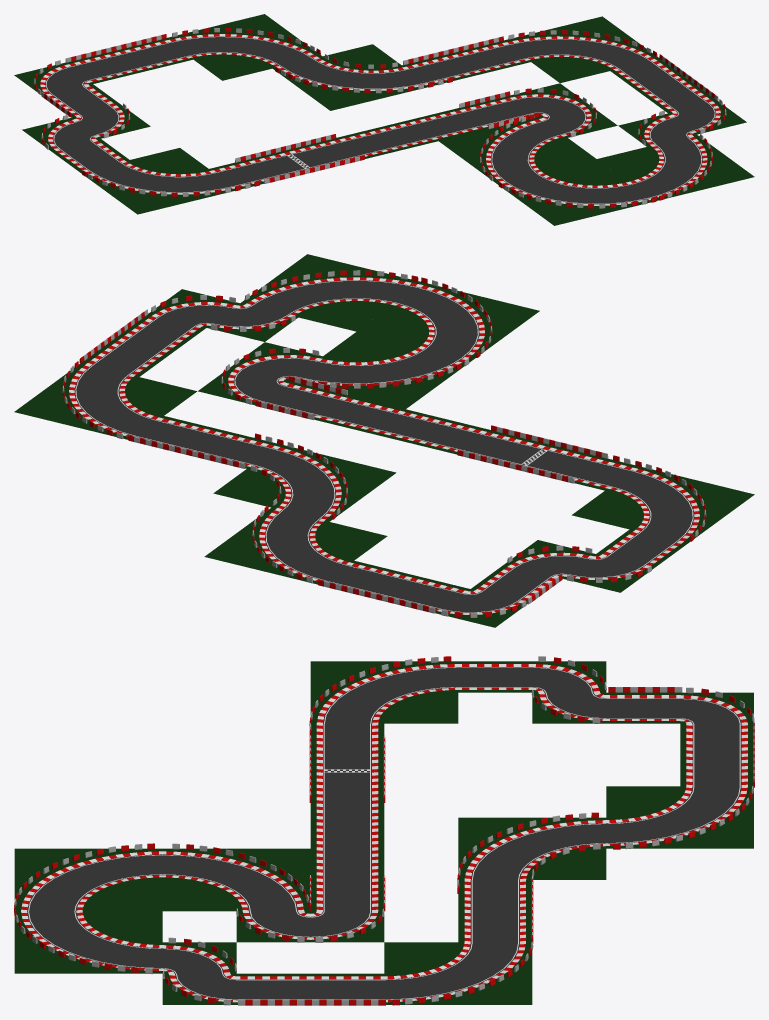
Rendered from CircuitCource.fbx.
The picture shows the model from 3 angles, top to bottom: view 1: azimuth 30°, elevation 25°; view 2: azimuth 150°, elevation 25°; view 3: azimuth 270°, elevation 25°; orthographic projection. The views are drawn at different scales.
Parts seen in each view (by area): view 1: Track_Corner_90d_type_01_30x30m_quad_free_obs__6_, Track_Corner_90d_type_01_30x30m_quad_free_obs__4_, Track_Corner_90d_type_01_30x30m_quad_free_obs__3_, Track_Corner_90d_type_01_30x30m_quad_free_obs__2_, Track_Corner_90d_type_01_30x30m_quad_free_obs, Track_Corner_90d_type_01_30x30m_quad_free_obs__5_, Track_Corner_90d_type_01_30x30m_quad_free_obs__1_, Track_line_type_01_30m_free_obs__2_, Track_line_type_01_30m_free_obs, Track_line_type_01_30m_free_obs__1_, Track_line_type_01_30m_free_obs__3_, Track_line_type_01_30m_free_obs__4_ (+11 smaller); view 2: Track_Corner_90d_type_01_30x30m_quad_free_obs__5_, Track_Corner_90d_type_01_30x30m_quad_free_obs, Track_Corner_90d_type_01_30x30m_quad_free_obs__2_, Track_Corner_90d_type_01_30x30m_quad_free_obs__3_, Track_Corner_90d_type_01_30x30m_quad_free_obs__4_, Track_Corner_90d_type_01_30x30m_quad_free_obs__1_, Track_Corner_90d_type_01_30x30m_quad_free_obs__6_, Track_line_type_01_30m_free_obs__2_, Track_line_type_01_30m_free_obs__3_, Track_line_type_01_30m_free_obs__4_, Track_line_type_01_30m_free_obs__1_, Track_line_type_01_30m_free_obs (+11 smaller); view 3: Track_Corner_90d_type_01_30x30m_quad_free_obs__5_, Track_Corner_90d_type_01_30x30m_quad_free_obs__6_, Track_Corner_90d_type_01_30x30m_quad_free_obs, Track_Corner_90d_type_01_30x30m_quad_free_obs__4_, Track_Corner_90d_type_01_30x30m_quad_free_obs__3_, Track_Corner_90d_type_01_30x30m_quad_free_obs__1_, Track_Corner_90d_type_01_30x30m_quad_free_obs__2_, Track_line_type_01_30m_free_obs__3_, Track_line_type_01_30m_free_obs__4_, Track_line_type_01_30m_free_obs__1_, Track_line_type_01_30m_free_obs, Track_line_type_01_30m_free_obs__2_ (+11 smaller).
Boxes of the visible parts, box(x1,y1,x2,y2) form: Track_Corner_90d_type_01_30x30m_quad_free_obs__6_: box(439, 117, 596, 183); Track_Corner_90d_type_01_30x30m_quad_free_obs__4_: box(597, 134, 754, 200); Track_Corner_90d_type_01_30x30m_quad_free_obs__3_: box(503, 16, 659, 83); Track_Corner_90d_type_01_30x30m_quad_free_obs__2_: box(165, 14, 322, 80); Track_Corner_90d_type_01_30x30m_quad_free_obs: box(80, 148, 234, 214); Track_Corner_90d_type_01_30x30m_quad_free_obs__5_: box(496, 159, 650, 225); Track_Corner_90d_type_01_30x30m_quad_free_obs__1_: box(273, 44, 427, 110); Track_line_type_01_30m_free_obs__2_: box(610, 59, 717, 113); Track_line_type_01_30m_free_obs: box(64, 39, 192, 83); Track_line_type_01_30m_free_obs__1_: box(402, 41, 530, 85); Track_line_type_01_30m_free_obs__3_: box(310, 120, 437, 162); Track_line_type_01_30m_free_obs__4_: box(410, 96, 533, 140); Track_Corner_90d_type_01_30x30m_quad_free_obs__5_: box(357, 283, 539, 359); Track_Corner_90d_type_01_30x30m_quad_free_obs: box(572, 466, 754, 543); Track_Corner_90d_type_01_30x30m_quad_free_obs__2_: box(204, 507, 387, 584); Track_Corner_90d_type_01_30x30m_quad_free_obs__3_: box(14, 363, 196, 439); Track_Corner_90d_type_01_30x30m_quad_free_obs__4_: box(240, 254, 422, 331); Track_Corner_90d_type_01_30x30m_quad_free_obs__1_: box(213, 444, 396, 521); Track_Corner_90d_type_01_30x30m_quad_free_obs__6_: box(295, 331, 472, 409); Track_line_type_01_30m_free_obs__2_: box(82, 313, 205, 376); Track_line_type_01_30m_free_obs__3_: box(372, 409, 521, 458); Track_line_type_01_30m_free_obs__4_: box(261, 381, 405, 433); Track_line_type_01_30m_free_obs__1_: box(136, 416, 279, 468); Track_line_type_01_30m_free_obs: box(326, 560, 469, 613); Track_Corner_90d_type_01_30x30m_quad_free_obs__5_: box(14, 848, 162, 911); Track_Corner_90d_type_01_30x30m_quad_free_obs__6_: box(162, 848, 310, 911); Track_Corner_90d_type_01_30x30m_quad_free_obs: box(310, 661, 458, 724); Track_Corner_90d_type_01_30x30m_quad_free_obs__4_: box(14, 911, 162, 973); Track_Corner_90d_type_01_30x30m_quad_free_obs__3_: box(384, 942, 532, 1004); Track_Corner_90d_type_01_30x30m_quad_free_obs__1_: box(458, 817, 606, 880); Track_Corner_90d_type_01_30x30m_quad_free_obs__2_: box(606, 786, 753, 848); Track_line_type_01_30m_free_obs__3_: box(310, 786, 384, 849); Track_line_type_01_30m_free_obs__4_: box(310, 848, 384, 911); Track_line_type_01_30m_free_obs__1_: box(458, 880, 531, 942); Track_line_type_01_30m_free_obs: box(680, 723, 752, 786); Track_line_type_01_30m_free_obs__2_: box(236, 973, 384, 1004).
Bounding box in the file's own units: 16543 × 125 × 15034.
Materials: 1 (1 with a texture image).
